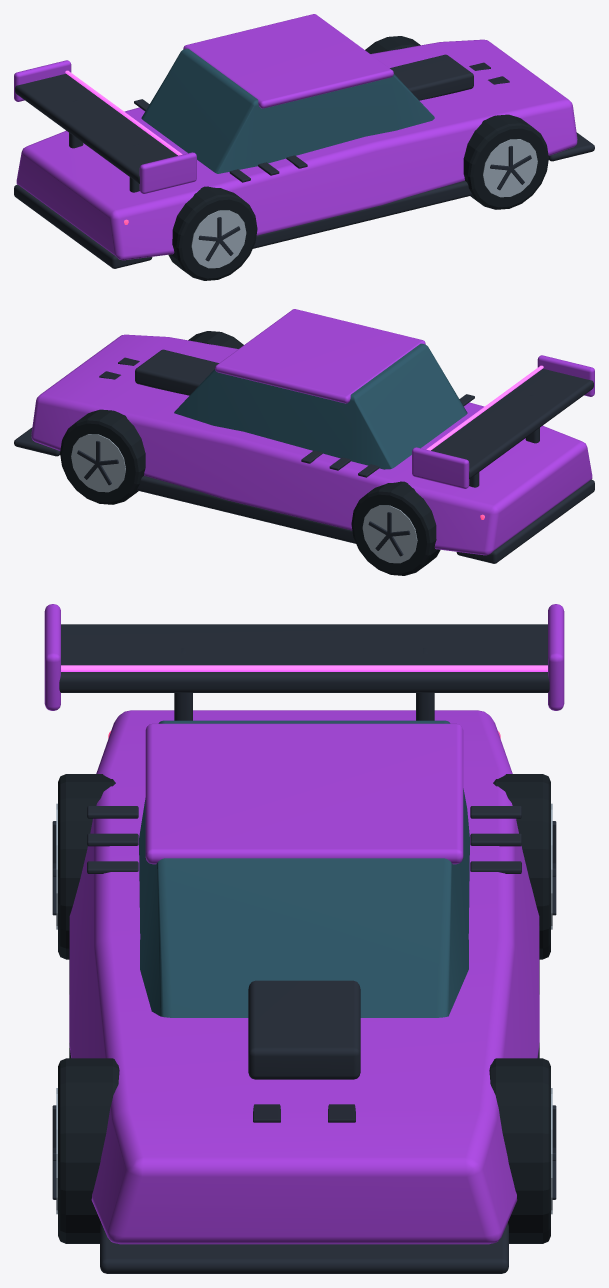
Rendered from iron.glb.
3 renders of one model, top to bottom at view 1: azimuth 30°, elevation 25°; view 2: azimuth 150°, elevation 25°; view 3: azimuth 270°, elevation 25°, orthographic. The views are drawn at different scales.
Parts seen in each view (by area): view 1: Widebody chassis, Muscle cabin, Cabin roof, Rear aero wing.001, iron_Wheel_F_L, iron_Wheel_R_L, Side skirt.002, Engine scoop, iron_WheelHub, iron_WheelHub.002, Wing endplate.002, Rear diffuser.001 (+4 smaller); view 2: Widebody chassis, Muscle cabin, Cabin roof, Rear aero wing.001, iron_Wheel_F_R, iron_Wheel_R_R, Side skirt.003, Engine scoop, iron_WheelHub.001, iron_WheelHub.003, Wing endplate.003, Rear diffuser.001 (+4 smaller); view 3: Widebody chassis, Muscle cabin, Cabin roof, Rear aero wing.001, Front splitter.001, Engine scoop, iron_Wheel_F_R, iron_Wheel_F_L, iron_Wheel_R_L, iron_Wheel_R_R, Wing colour strip.001, Wing endplate.002 (+1 smaller).
Boxes of the visible parts, x1,y1,x2,y2 form: Widebody chassis: (16,39,577,260); Muscle cabin: (141,48,434,173); Cabin roof: (183,14,393,108); Rear aero wing.001: (15,74,177,183); iron_Wheel_F_L: (463,114,548,209); iron_Wheel_R_L: (168,186,257,280); Side skirt.002: (253,181,471,248); Engine scoop: (390,54,473,100); iron_WheelHub: (191,210,246,268); iron_WheelHub.002: (483,139,537,197); Wing endplate.002: (139,152,196,193); Rear diffuser.001: (14,184,152,268); Widebody chassis: (31,334,592,555); Muscle cabin: (174,343,467,469); Cabin roof: (215,309,425,403); Rear aero wing.001: (431,369,593,478); iron_Wheel_F_R: (60,409,145,504); iron_Wheel_R_R: (351,481,440,575); Side skirt.003: (137,476,355,543); Engine scoop: (135,349,218,395); iron_WheelHub.001: (362,505,417,563); iron_WheelHub.003: (71,434,125,492); Wing endplate.003: (412,447,469,488); Rear diffuser.001: (456,479,594,563); Widebody chassis: (69,710,539,1244); Muscle cabin: (139,720,469,1017); Cabin roof: (145,723,463,864); Rear aero wing.001: (59,624,549,692); Front splitter.001: (100,1223,508,1273); Engine scoop: (248,980,360,1079); iron_Wheel_F_R: (489,1058,550,1243); iron_Wheel_F_L: (58,1058,119,1243); iron_Wheel_R_L: (58,774,115,959); iron_Wheel_R_R: (493,774,550,959); Wing colour strip.001: (61,665,547,671); Wing endplate.002: (44,604,60,710).
Size of the model in its own units: 4.77 by 1.38 by 2.22.
